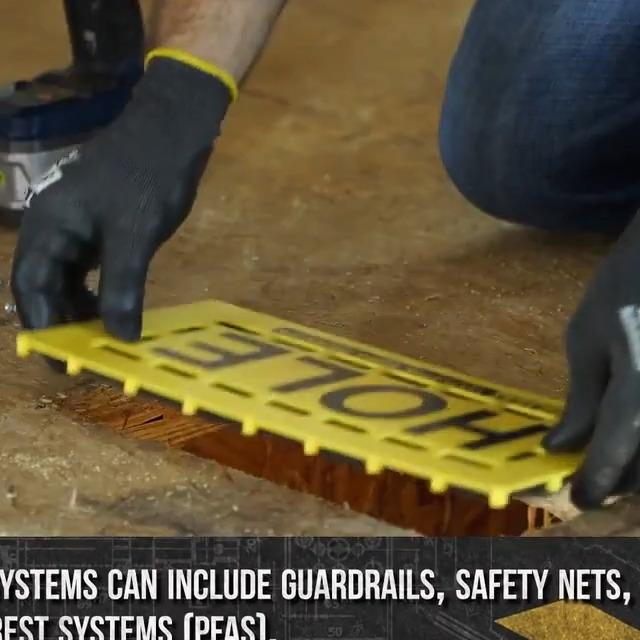Gloves: (8, 45, 242, 340), (541, 147, 640, 504)
Person: (6, 0, 640, 500)
